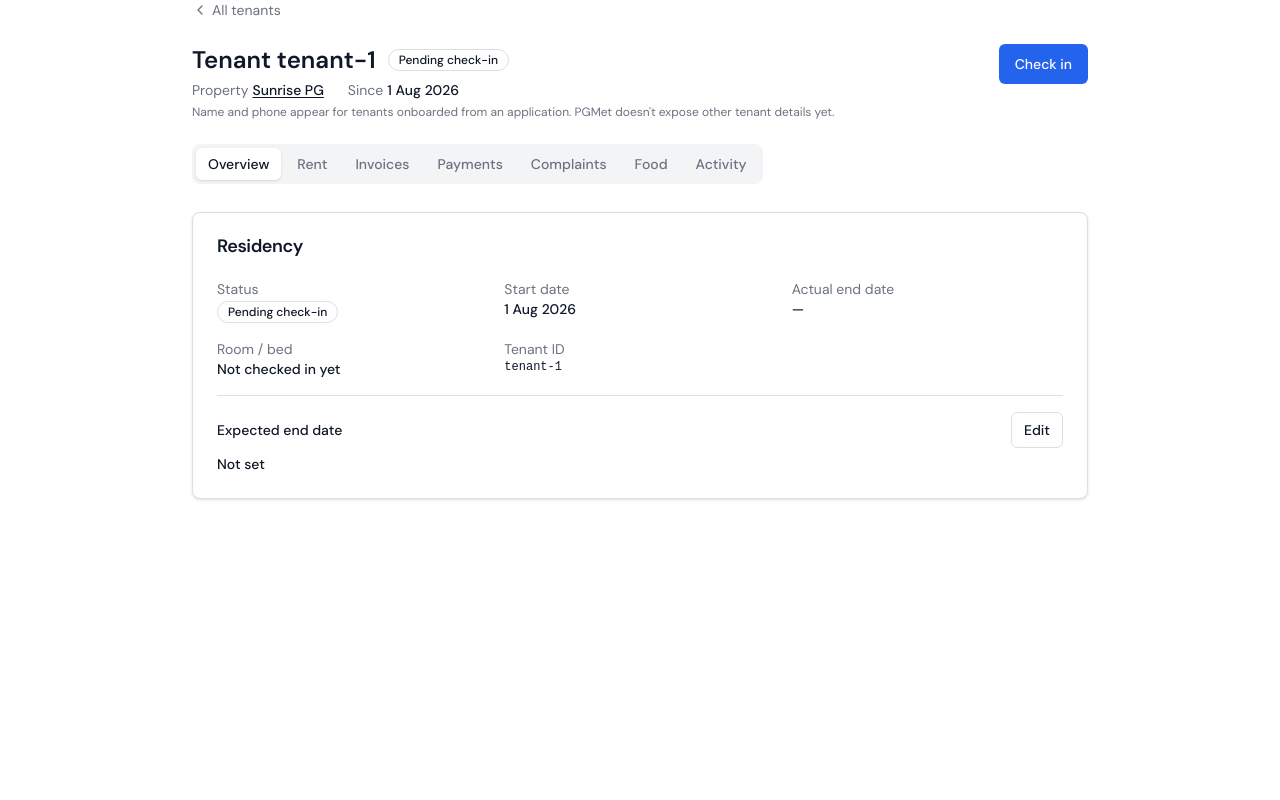
ResidencyDetailPage — Tenant 360 › does not fetch rooms/beds on page open — only when the check-in dialog opens
Expected: the link "Sunrise PG" is shown, [252,81,324,99]
Click the button "Check in": point(1043, 64) [999,44,1088,84]
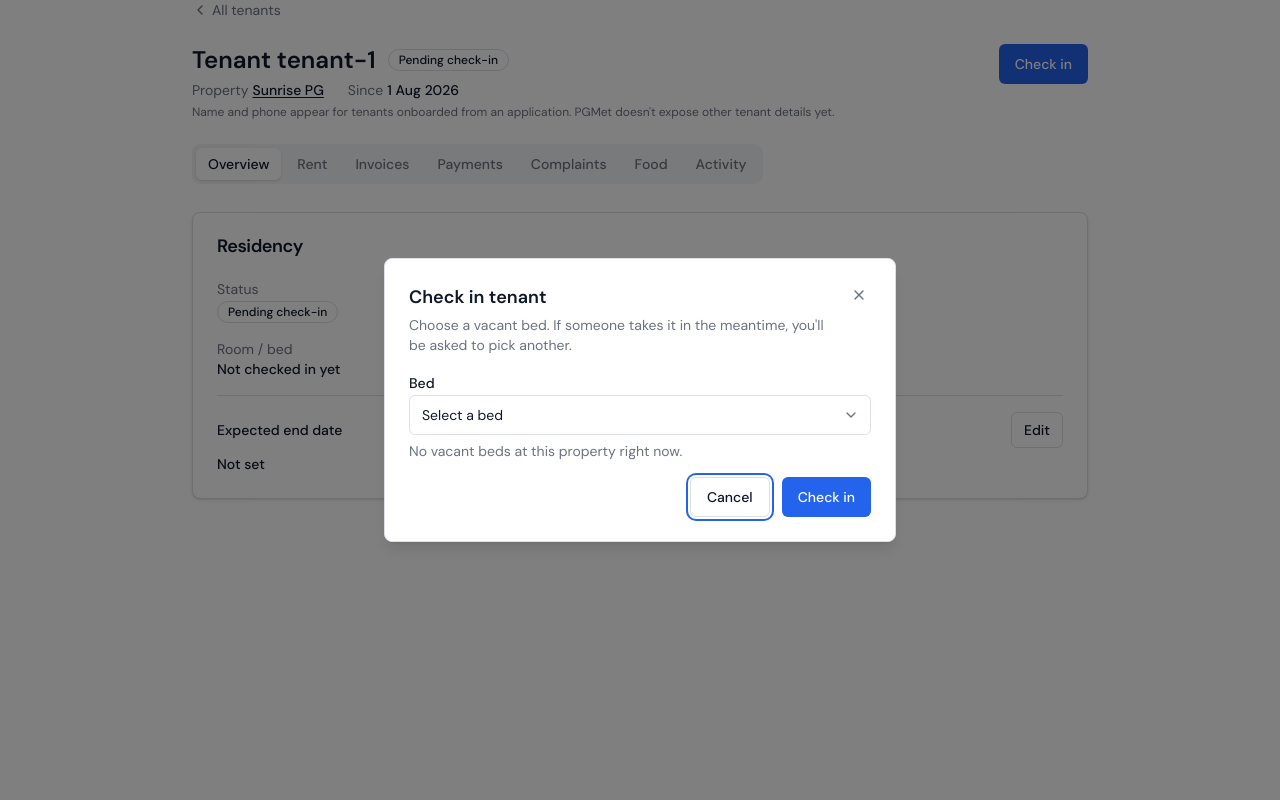
Expected: the text "No vacant beds at this property right now." is shown, [409,442,682,460]
